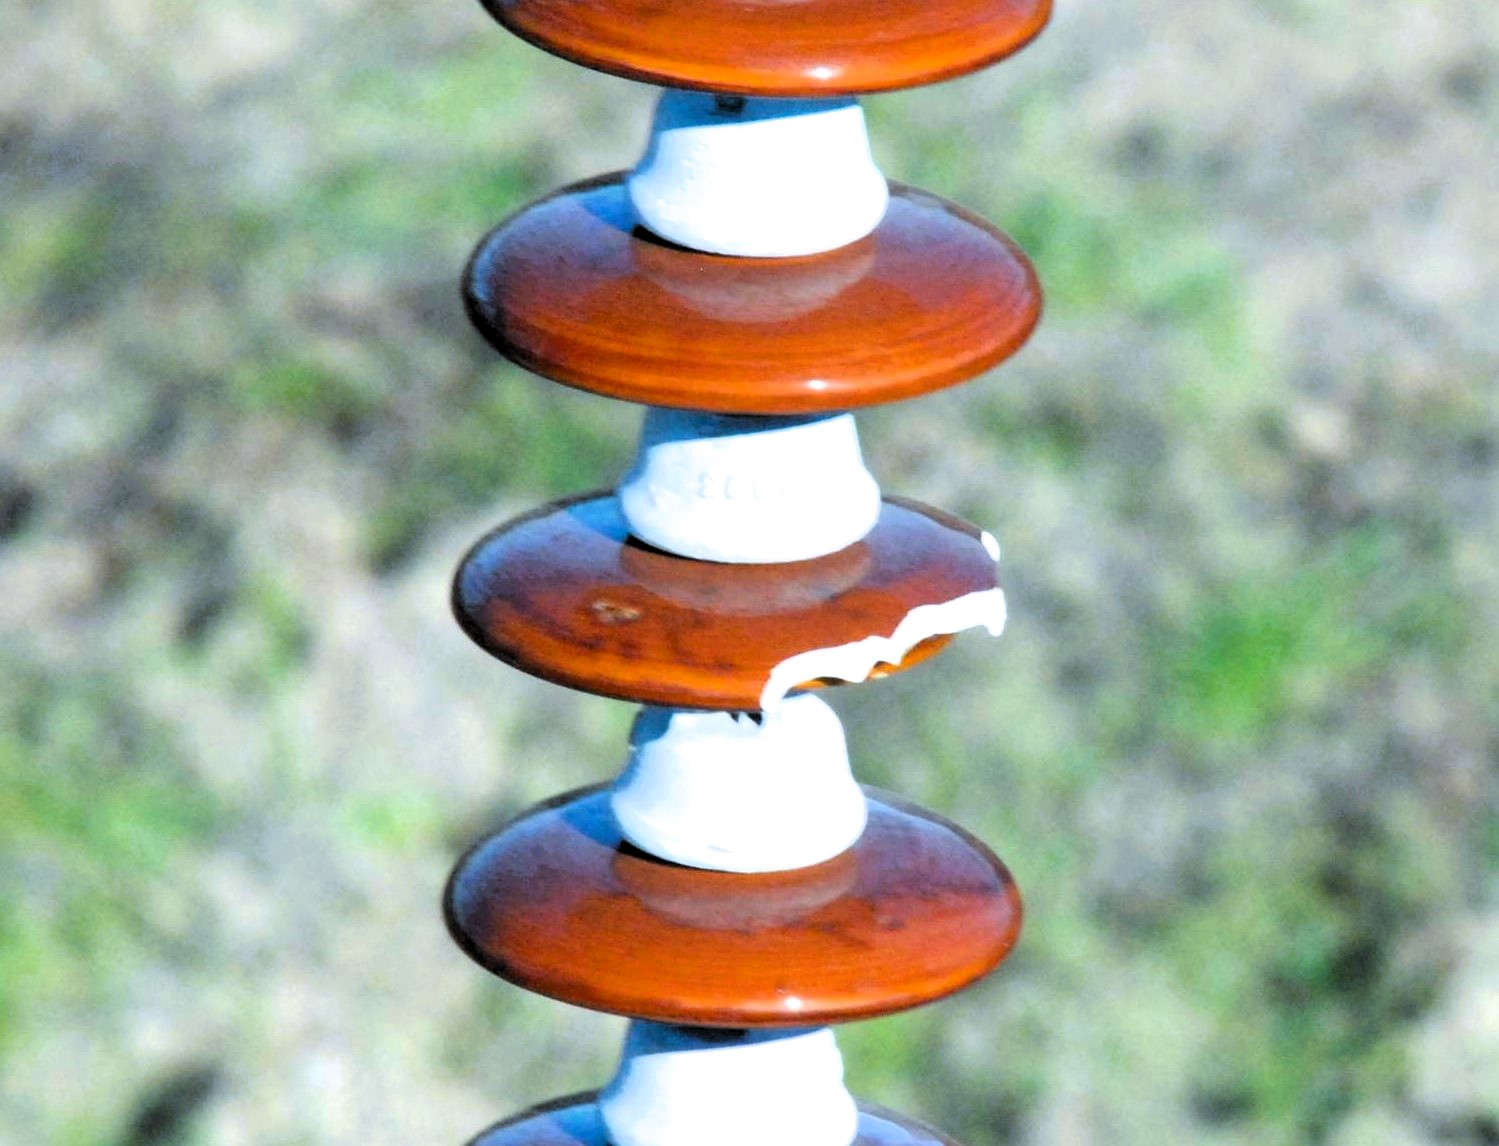insulator breakage: (433, 482, 1035, 731)
